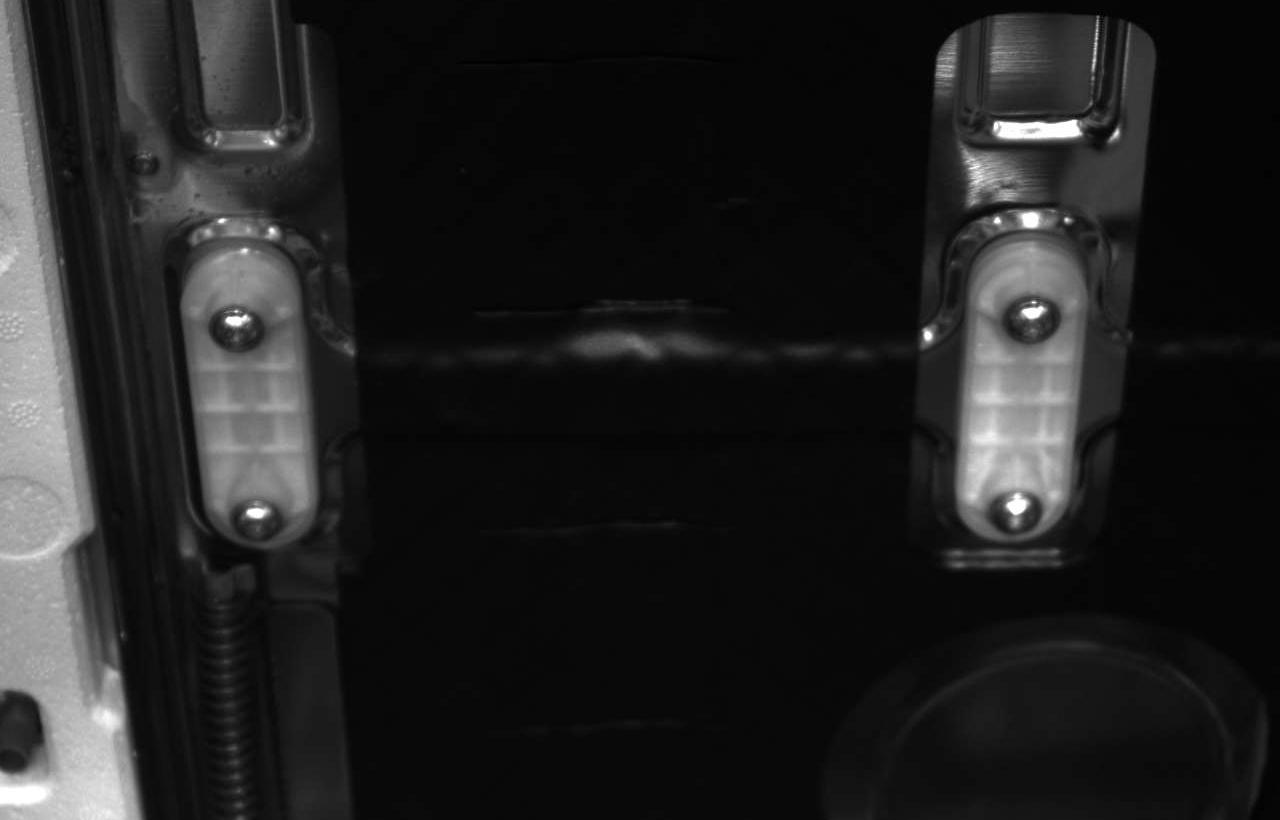vida-ok: (200, 299, 271, 367), (1001, 287, 1069, 354), (986, 474, 1051, 542), (229, 489, 294, 548)
